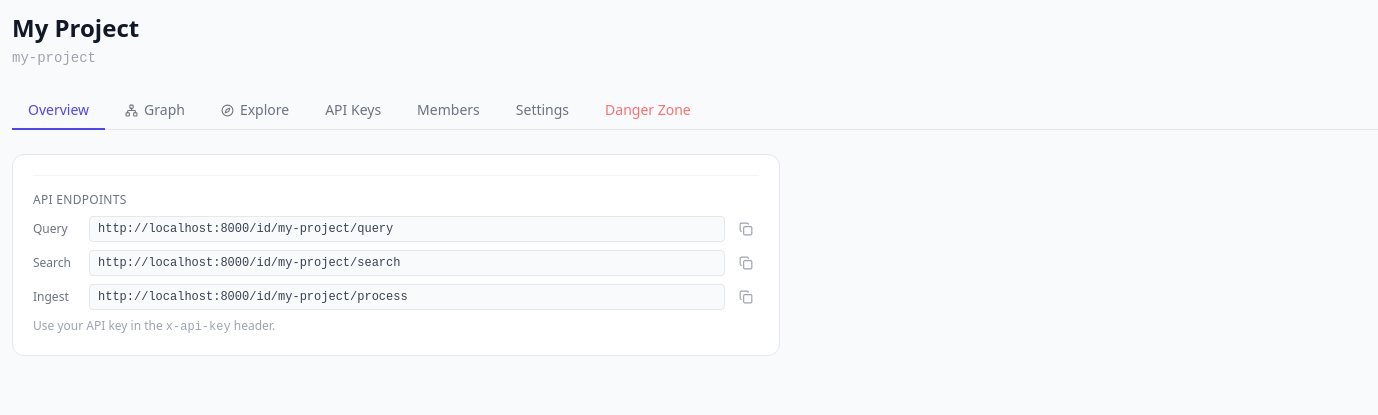
ProjectDetail page › Danger Zone tab › disables Delete button until tenant_id is typed
Expected: the heading "My Project" is shown, 12,11 -> 139,44
Click the tab "Danger Zone": click(648, 111) 589,92 -> 707,130
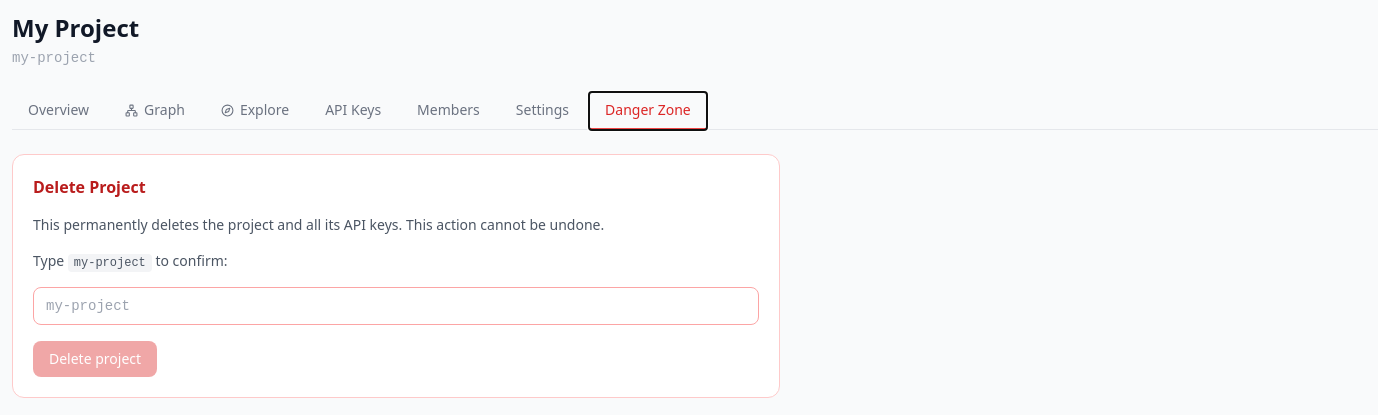
Now the button "Delete project" is disabled, box 33,341 -> 157,377
